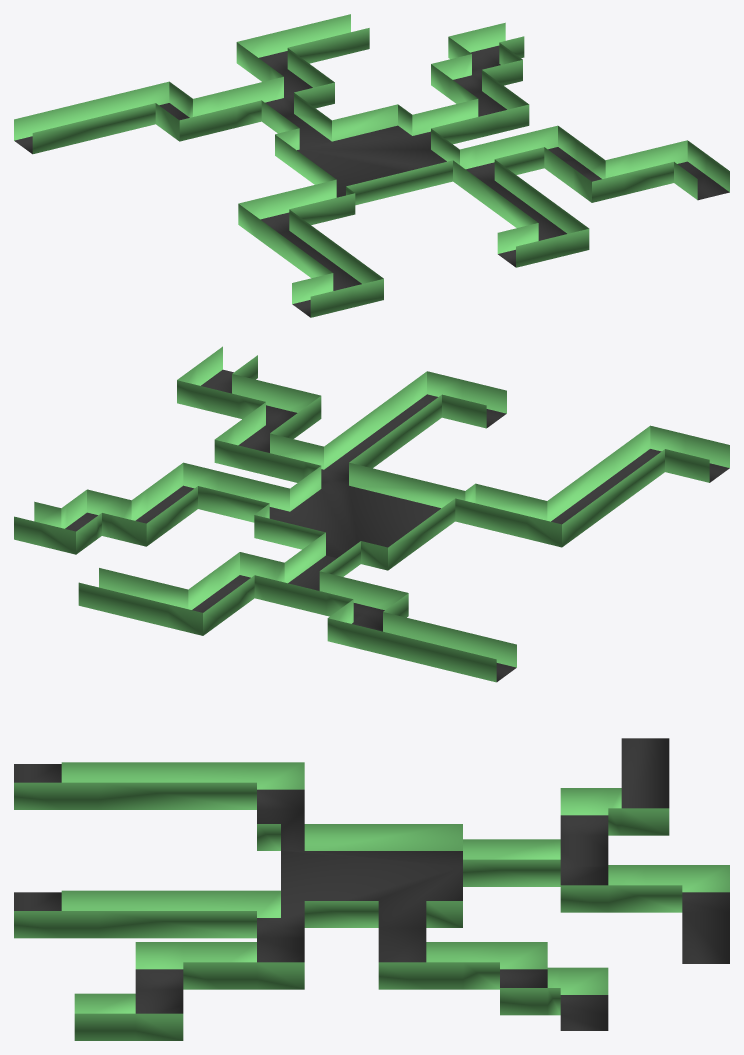
Rendered from hall.fbx.
The picture shows the model from 3 angles, top to bottom: view 1: azimuth 30°, elevation 25°; view 2: azimuth 150°, elevation 25°; view 3: azimuth 270°, elevation 25°; orthographic projection. The views are drawn at different scales.
Parts seen in each view (by area): view 1: soften_normals1; view 2: soften_normals1; view 3: soften_normals1.
Boxes of the visible parts, <box> form: soften_normals1: <box>14,14,729,317</box>; soften_normals1: <box>14,346,729,682</box>; soften_normals1: <box>14,738,729,1040</box>.
Size of the model in its own units: 1071 by 45 by 1071.
